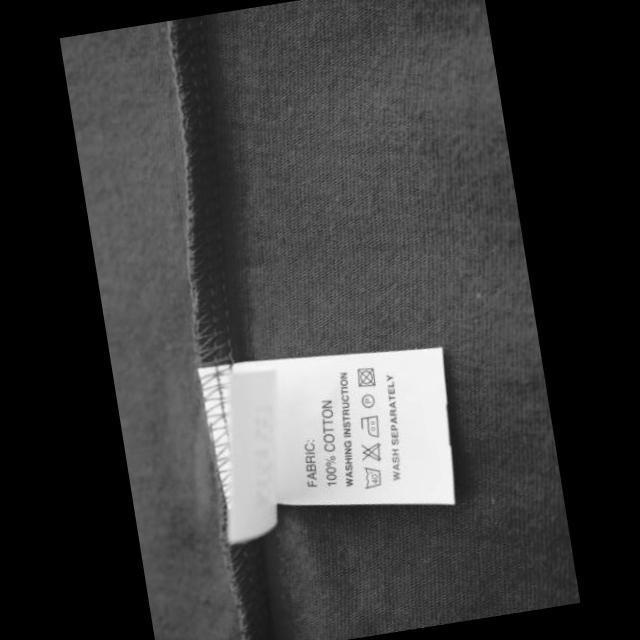40C: (360, 464, 384, 491)
DN_bleach: (358, 439, 384, 464)
DN_tumble_dry: (355, 364, 378, 389)
iron_medium: (358, 413, 382, 440)
normal_dry_clean_solvents: (359, 392, 376, 409)
